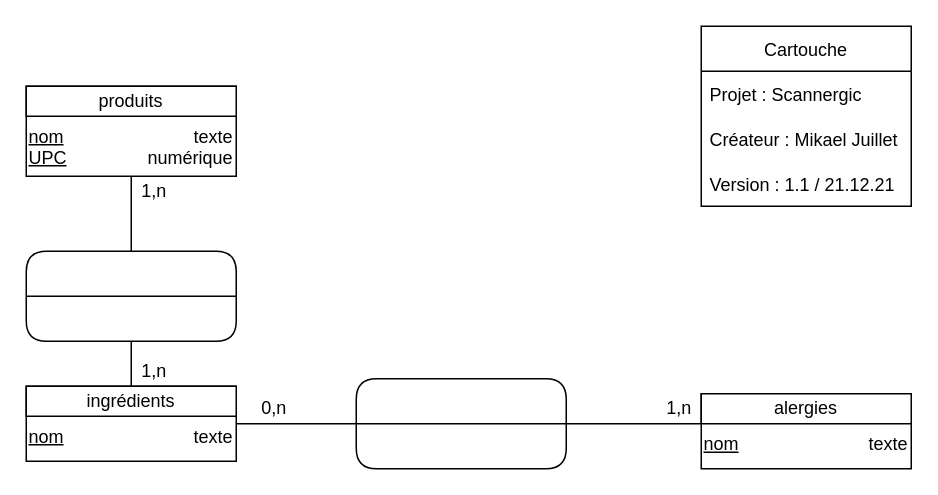
The diagram is 938 pixels wide and 495 high, and some of its shapes have lost their labels. The box of each missing label's shape, as (x1, y1, x2, y2) in pixels:
composer: (25, 250, 236, 341)
provoquer: (355, 377, 566, 469)
